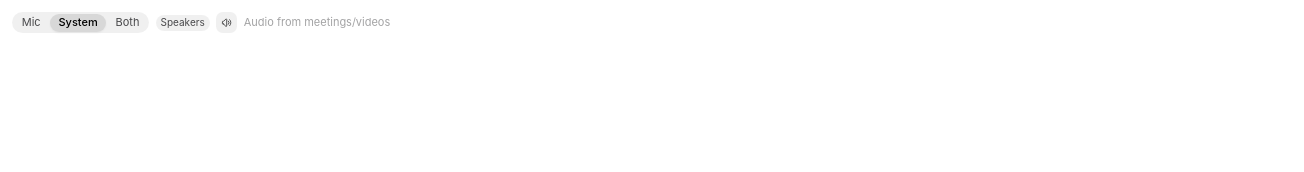
Test: AudioCapture speakers, questions and echo › should keep both channels when they say different things
Click the button "Both" at (127, 23), box [107,14,148,32]
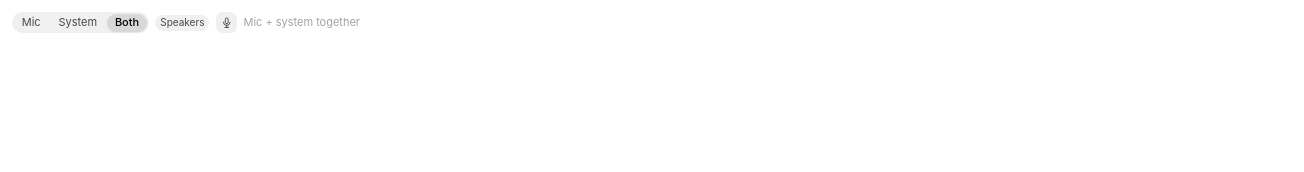
Click the button "Speakers" at (182, 23), box [155,14,209,31]
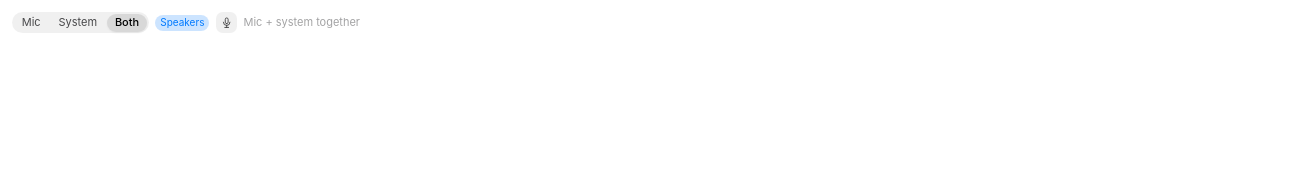
Click the button titled "Transcribe" at (226, 23), box [216,12,237,33]
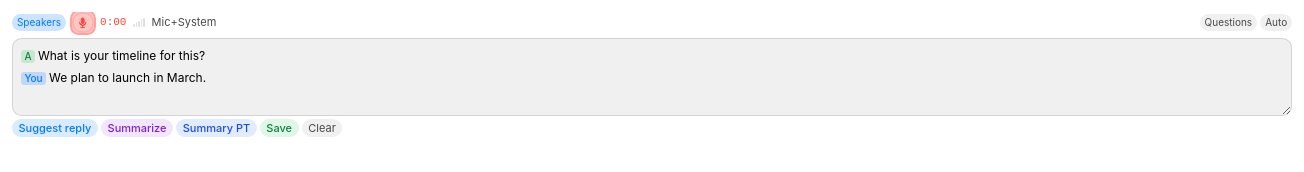
Result: the text "What is your timeline for this?" is shown at [38,48,205,62]
Result: the text "We plan to launch in March." is shown at [49,70,206,85]
